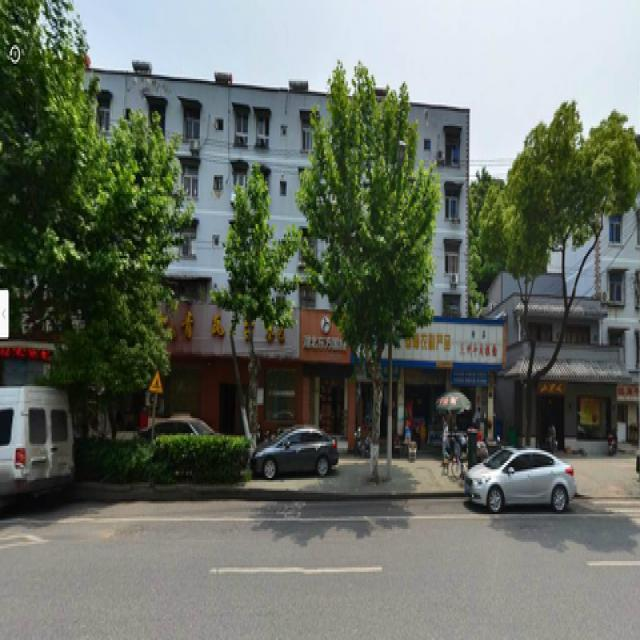cinn: (491, 128, 608, 444)
meta: (312, 66, 412, 452), (52, 143, 159, 422), (217, 186, 291, 435)
